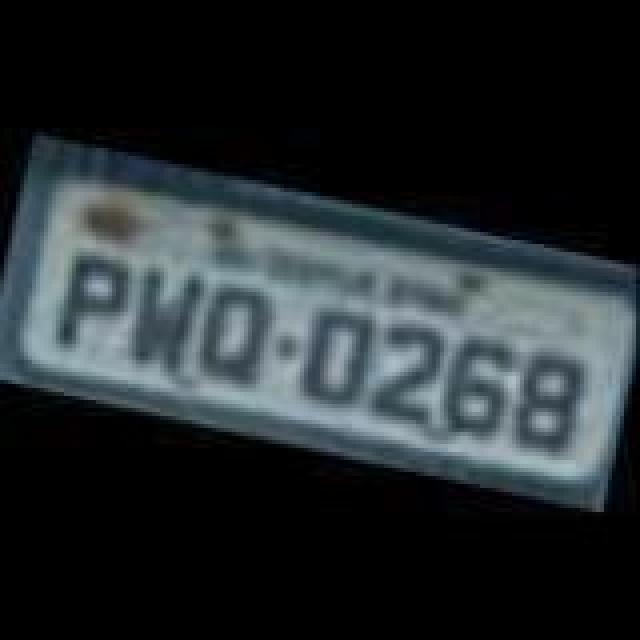2: (358, 314, 454, 426)
6: (430, 326, 526, 438)
8: (506, 344, 594, 464)
O: (292, 300, 376, 408)
P: (52, 246, 136, 354)
Q: (186, 276, 274, 384)
W: (122, 264, 210, 376)
